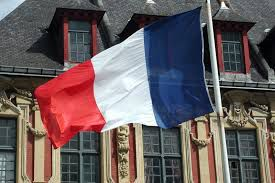French Flag: (36, 7, 201, 152)
